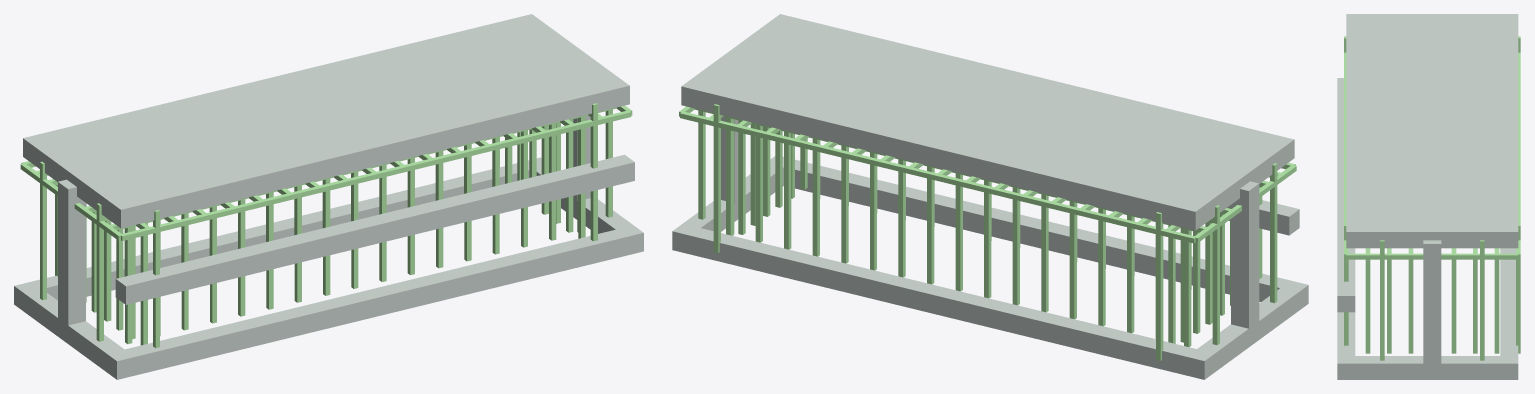
Rendered from goal_net.obj.
3 views of the same model, side by side, from view 1: azimuth 30°, elevation 25°; view 2: azimuth 150°, elevation 25°; view 3: azimuth 270°, elevation 25° (orthographic). The views are drawn at different scales.
Visible parts, largest first — view 1: GoalNet; view 2: GoalNet; view 3: GoalNet.
Boxes of the visible parts, left/top/right/bottom form: GoalNet: left=14, top=14, right=643, bottom=379; GoalNet: left=672, top=14, right=1308, bottom=379; GoalNet: left=1337, top=14, right=1520, bottom=379.
Bounding box in the file's own units: 7.58 × 2.26 × 2.6.
